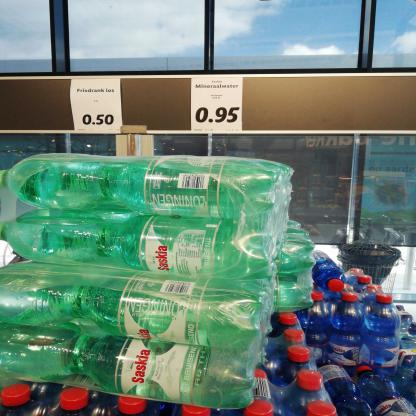prtg: (192, 79, 244, 132), (71, 80, 123, 131)
